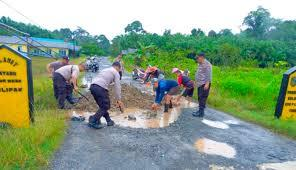Pothole: (60, 94, 208, 130), (173, 122, 251, 167), (198, 109, 242, 129), (252, 152, 296, 170)
